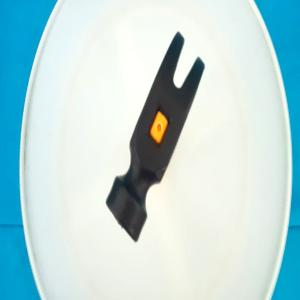martelo: (105, 31, 206, 243)
